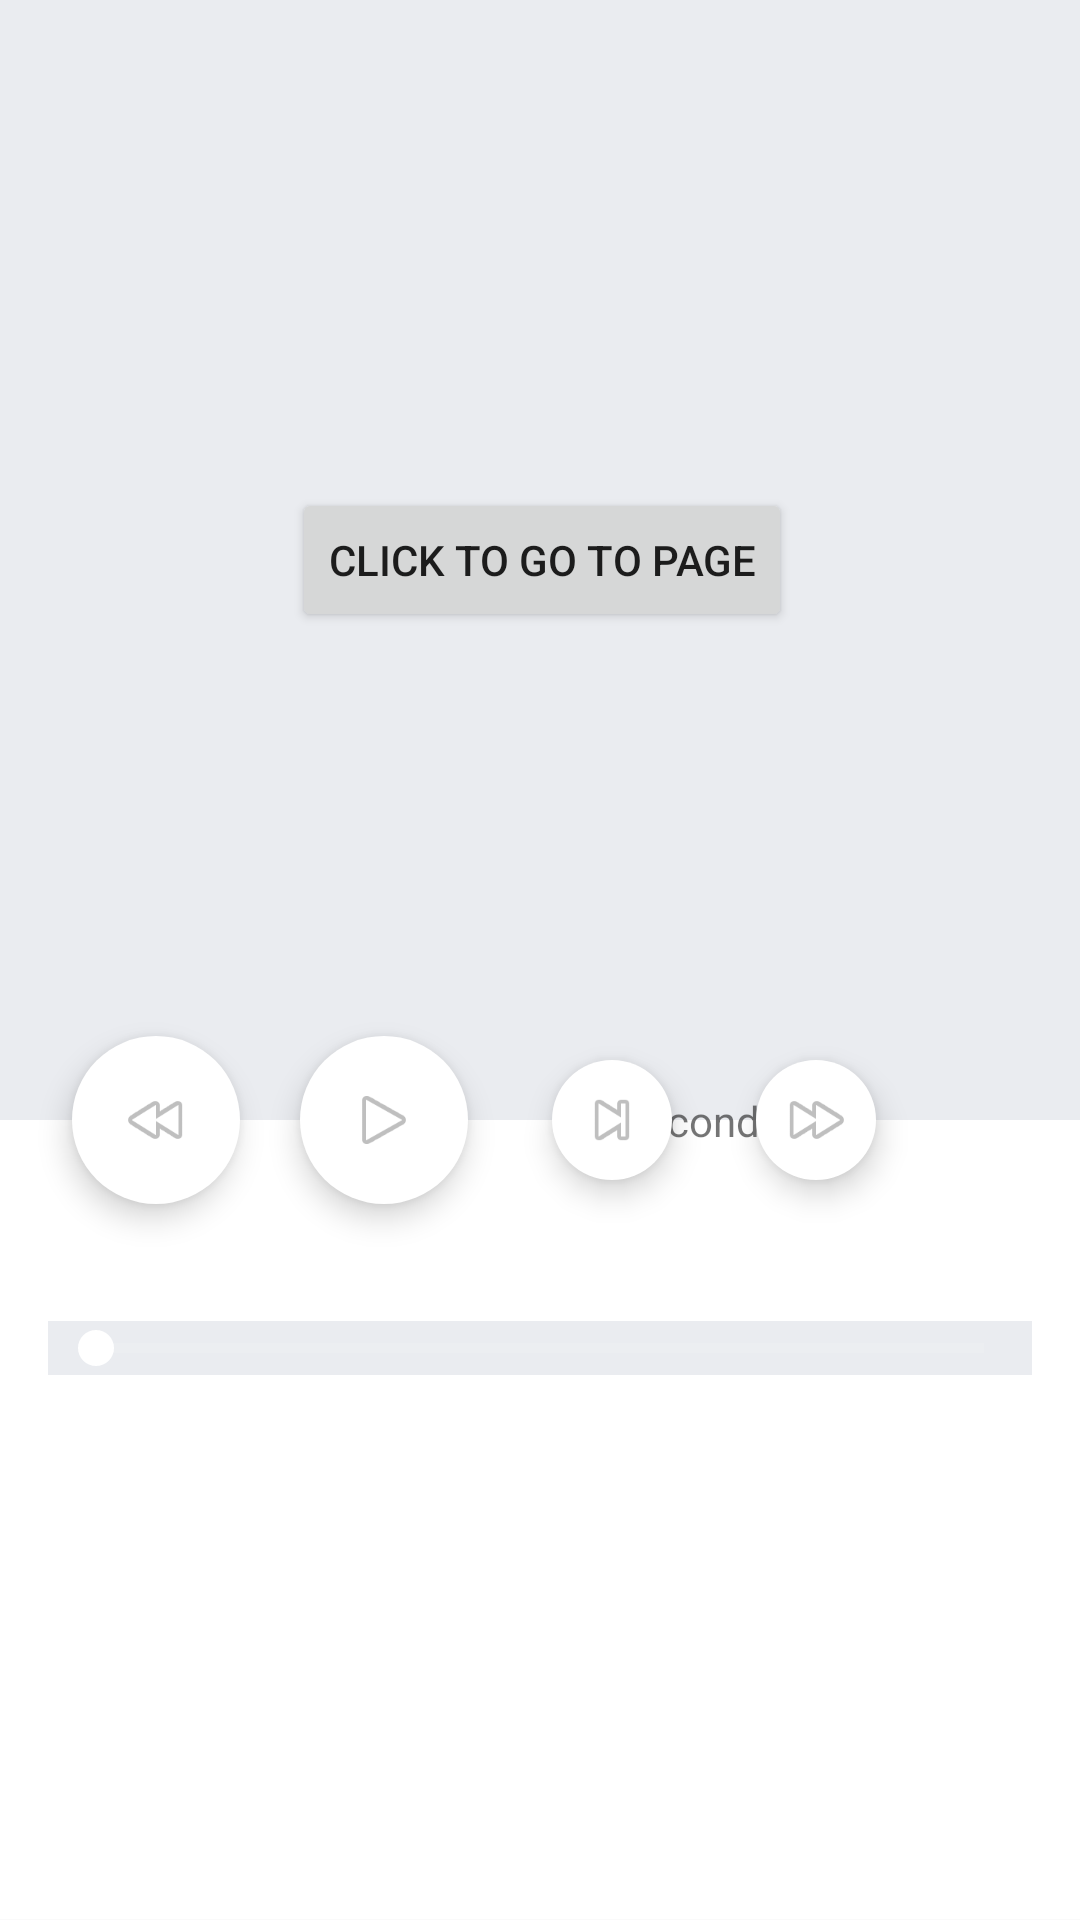

Named icons in this screenshot (1080px x 1920px) and their bounding boxes, bbox=[x1, y1, x2, y2]:
next: bbox=[552, 1060, 672, 1180]
play: bbox=[300, 1036, 468, 1204]
rew: bbox=[72, 1036, 240, 1204]
